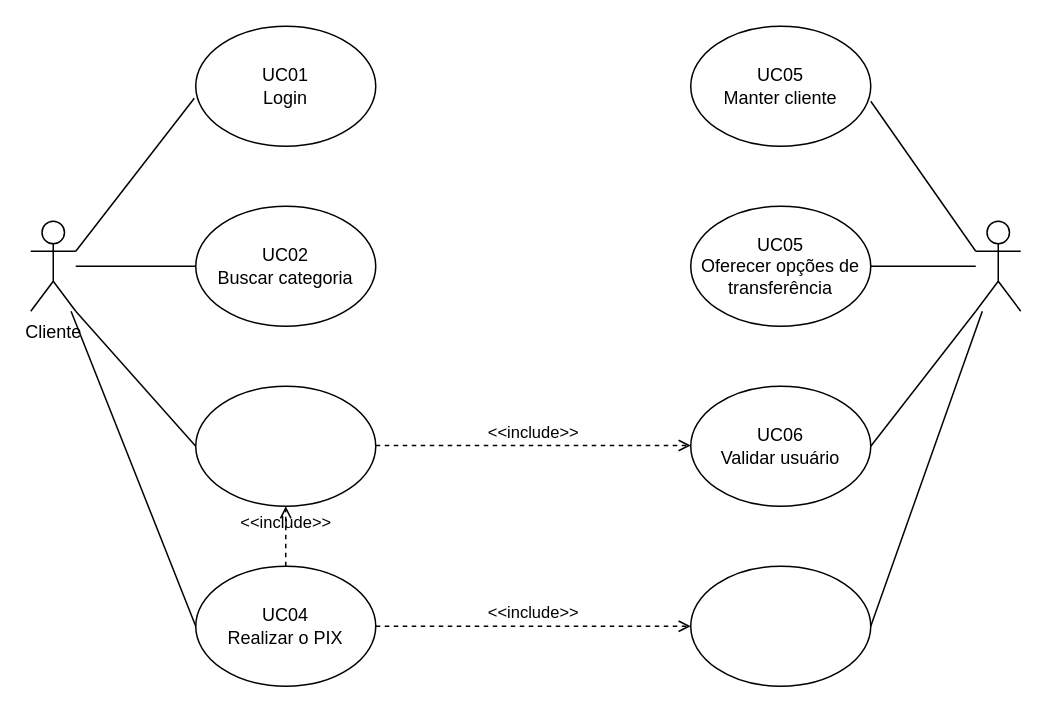
Image size: 1050x713. Some labels were removed from this diagram. Here are the shapes that lost their labels. From the top down, the box of each, then its label:
(974, 220, 1021, 311): Banco
(194, 385, 376, 506): UC03 Inserir senha ou biometria
(689, 565, 871, 686): UC07 Verificar saldo
